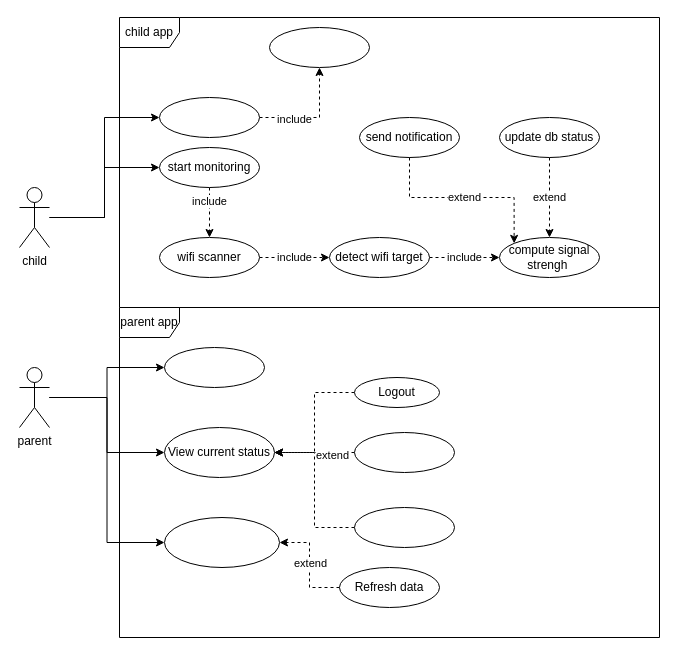
This 677x655 diagram has some shape labels left out. Each missing label, with the centre of its shape:
"end wifi scanner" goes at point (319, 47).
"Login" goes at point (214, 367).
"Select child" goes at point (404, 527).
"stop monitoring" goes at point (209, 117).
"View attendance history" goes at point (222, 542).
"View recent activity" goes at point (404, 452).
